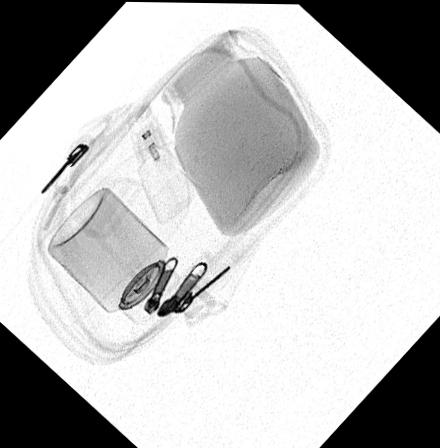Sprayer: (49, 187, 179, 325)
